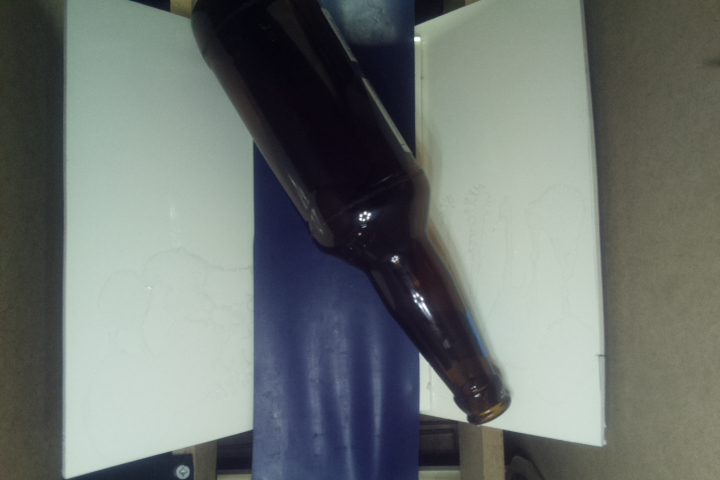makju: (189, 1, 512, 429)
